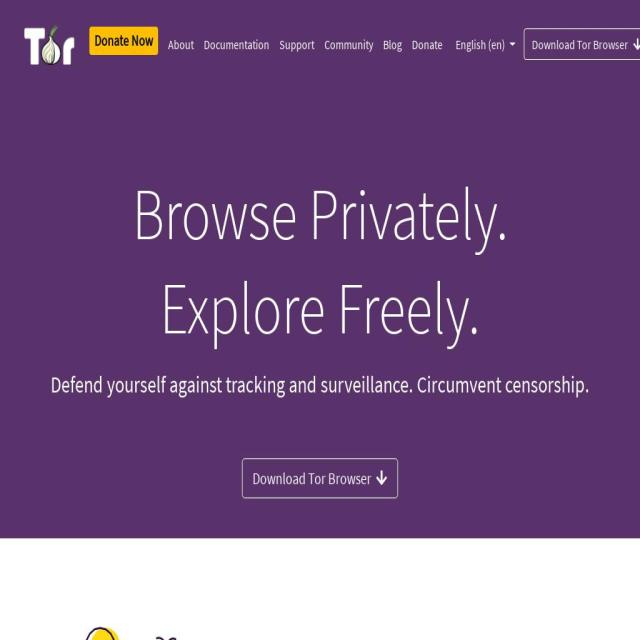button: (242, 458, 398, 498), (523, 28, 640, 61), (199, 21, 274, 68), (320, 21, 378, 68), (448, 28, 524, 61), (24, 20, 74, 69), (274, 21, 320, 68), (407, 21, 447, 68), (90, 26, 158, 52), (163, 21, 199, 68), (378, 21, 407, 68)
heading: (132, 168, 508, 257), (160, 262, 480, 351), (51, 370, 590, 398), (90, 26, 158, 56)
image: (39, 591, 262, 640), (24, 24, 74, 65)
text: (252, 467, 372, 488), (531, 36, 628, 53)
